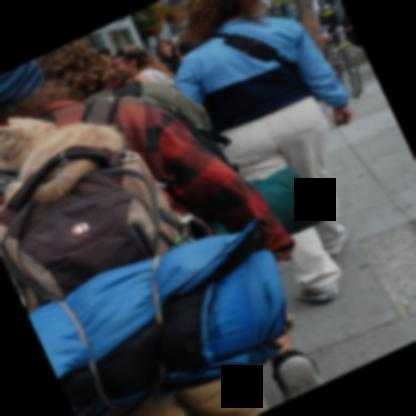backpack: (0, 92, 218, 316), (157, 104, 238, 171), (113, 82, 143, 99)
handbag: (209, 32, 299, 75)
